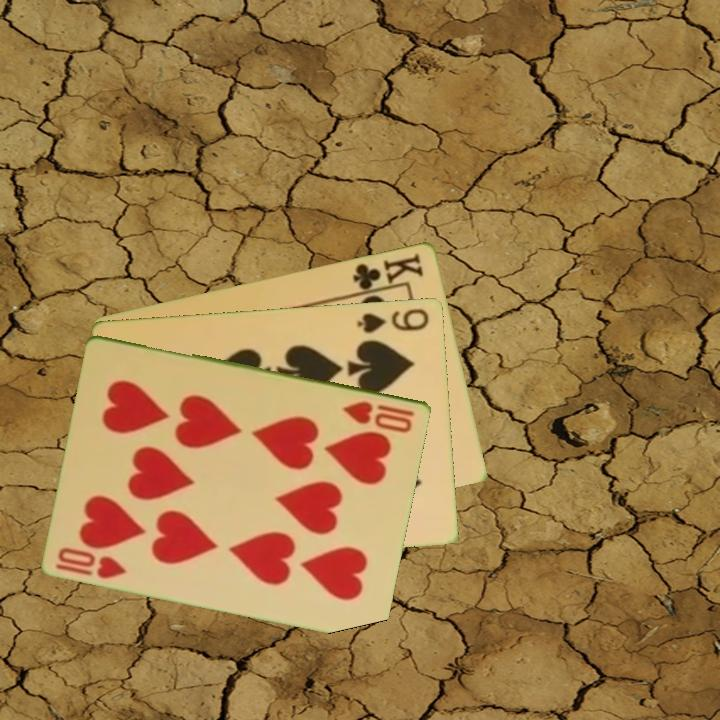10h: (340, 397, 418, 436), (52, 543, 130, 582)
9s: (354, 304, 432, 336)
Kc: (349, 249, 427, 297)
